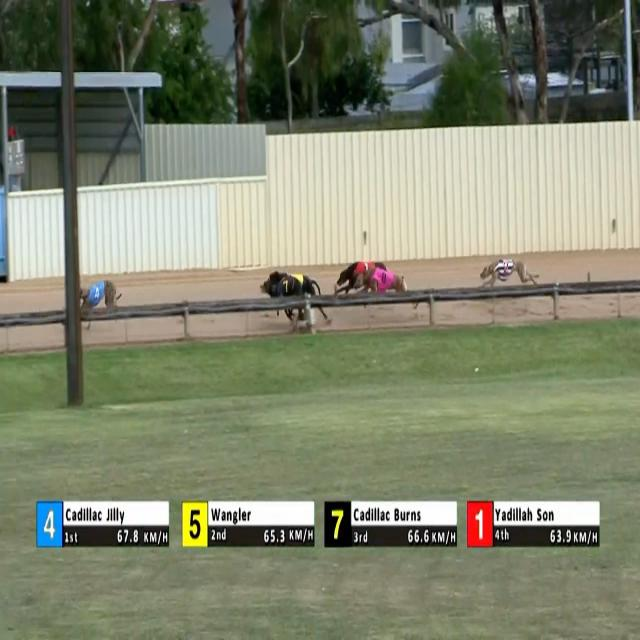dog_eight: (375, 264, 393, 293)
dog_five: (289, 270, 305, 290)
dog_four: (92, 280, 105, 307)
dog_one: (355, 258, 375, 279)
dog_seven: (278, 278, 293, 298)
dog_two: (499, 257, 515, 284)
rail: (0, 279, 640, 328)
